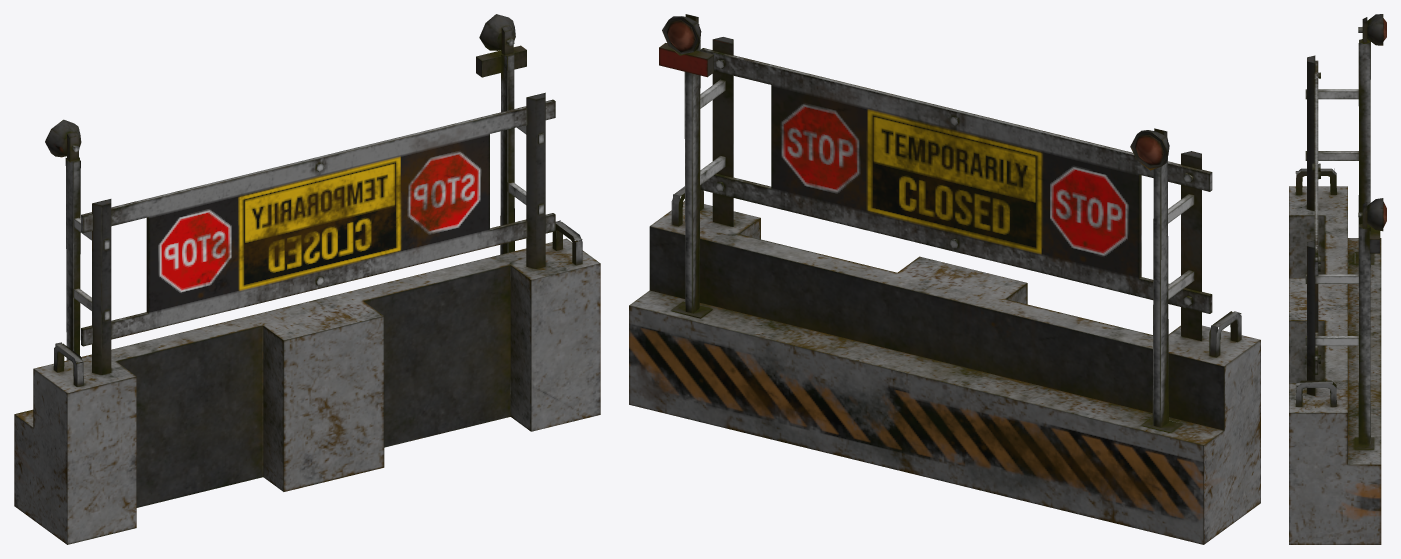
Rendered from block.glb.
The picture shows the model from 3 angles, left to right: view 1: azimuth 30°, elevation 25°; view 2: azimuth 150°, elevation 25°; view 3: azimuth 270°, elevation 25°; orthographic projection. The views are drawn at different scales.
Visible parts, largest first — view 1: GEN_block; view 2: GEN_block; view 3: GEN_block.
Part boxes in pixels (x1,y1,x2,y2): GEN_block: (14,14,600,544); GEN_block: (629,14,1260,544); GEN_block: (1289,14,1386,544).
Size of the model in its own units: 2.4 by 1.61 by 0.4382.
Materials: 1 (1 with a texture image).
